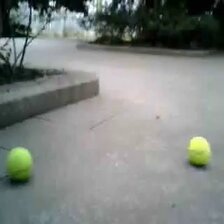tennis: (6, 148, 33, 181), (188, 137, 210, 164)
